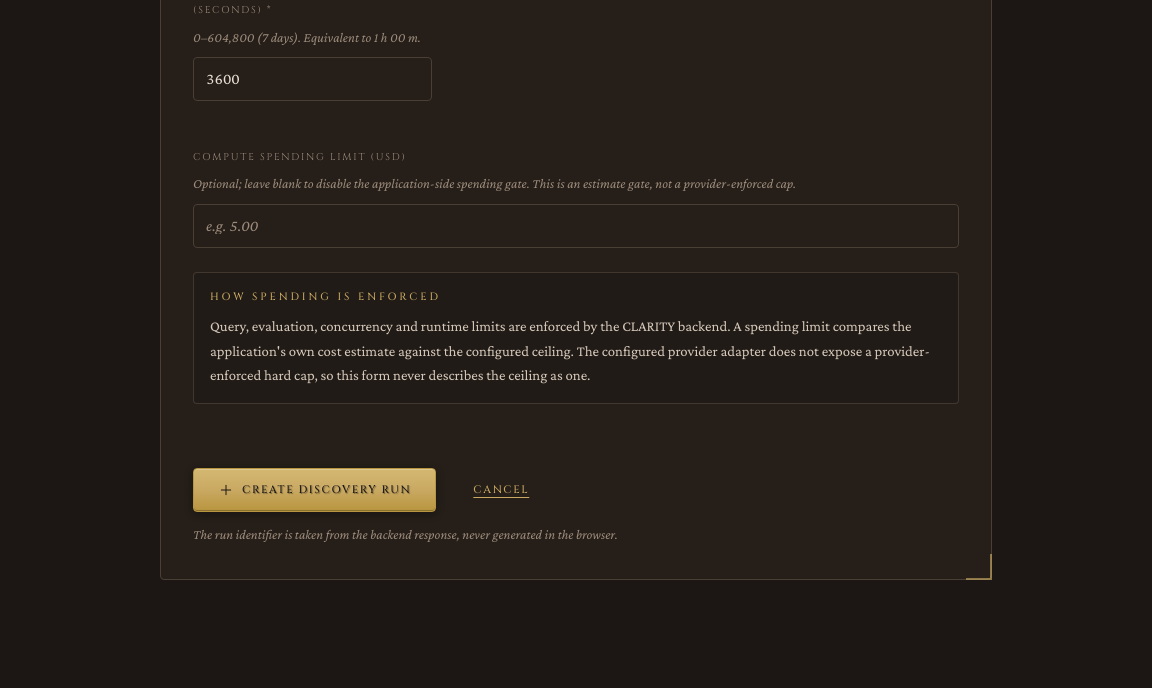
Test case: CreateRunPage › rejects an empty name with a plain-language error and no request
(page scrolled)
Click the button "Create discovery run". click: (315, 490)
box: [193, 468, 436, 512]
(page scrolled)
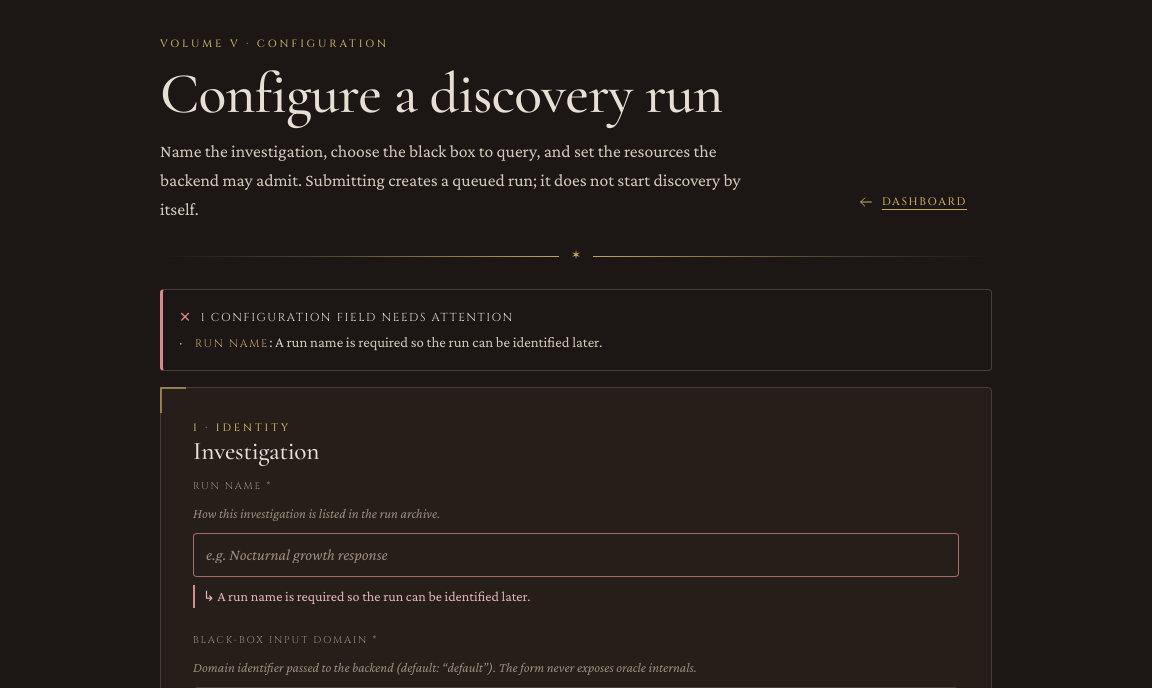
Check: the list item "run name is required so the run can be identified" is shown, box [275, 334, 602, 350]
